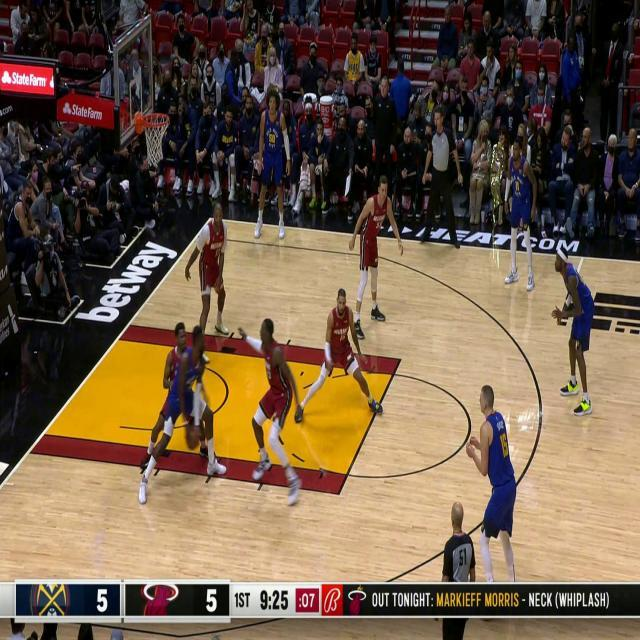rim: (187, 425, 200, 448)
